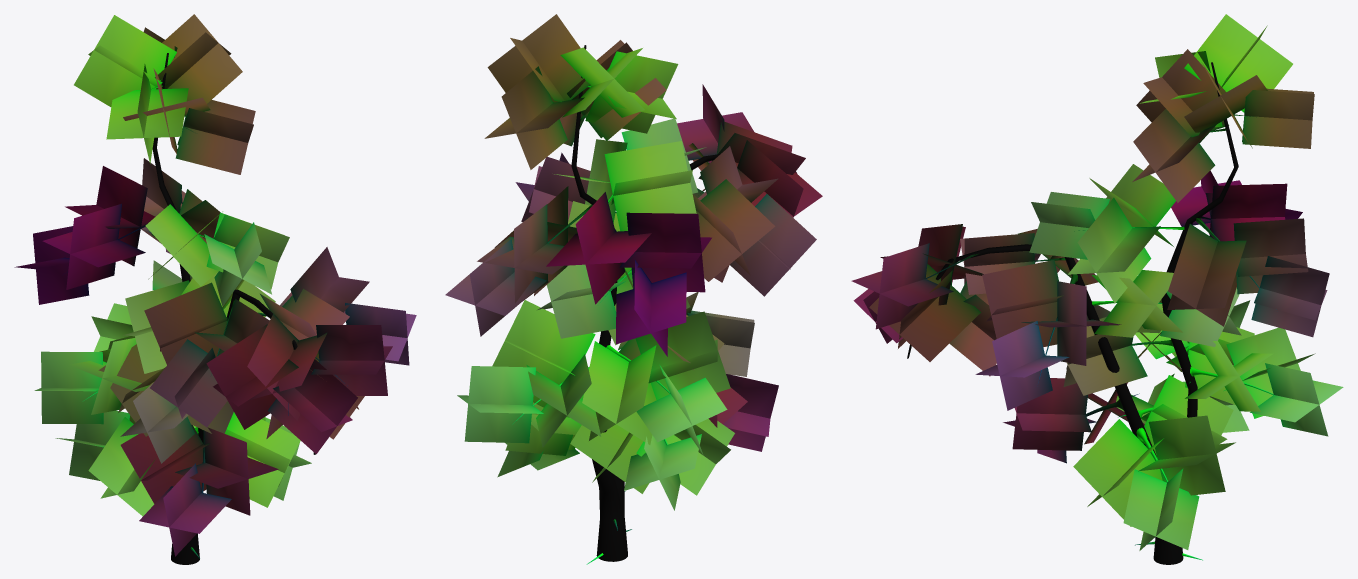
Rendered from URP_P7_Tree_14_LOD_1.fbx.
3 views of the same model, side by side, from view 1: azimuth 30°, elevation 25°; view 2: azimuth 150°, elevation 25°; view 3: azimuth 270°, elevation 25° (orthographic). The views are drawn at different scales.
Parts seen in each view (by area): view 1: Tree_14_LOD_1; view 2: Tree_14_LOD_1; view 3: Tree_14_LOD_1.
Part boxes in pixels (<box>): Tree_14_LOD_1: <box>14,14,416,564</box>; Tree_14_LOD_1: <box>445,14,822,564</box>; Tree_14_LOD_1: <box>851,14,1343,564</box>.
Size of the model in its own units: 274 by 464 by 396.
